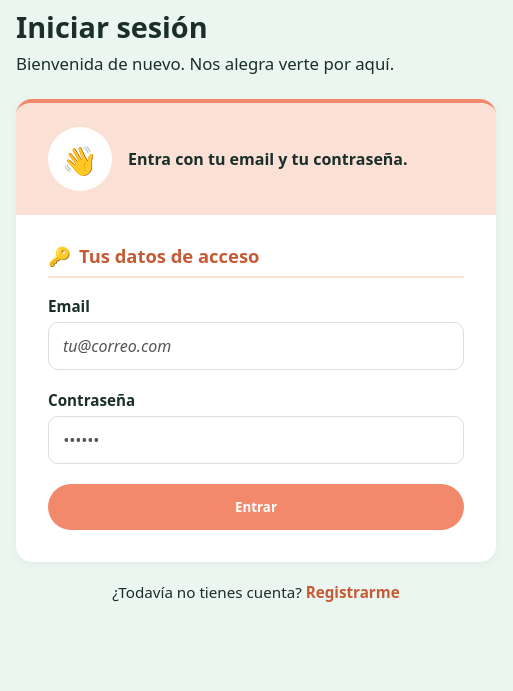
LoginView › si el login falla, muestra el error y no cambia de página
In the field with id "email": (256, 346) [48,322,464,370], type "ana@test.com"
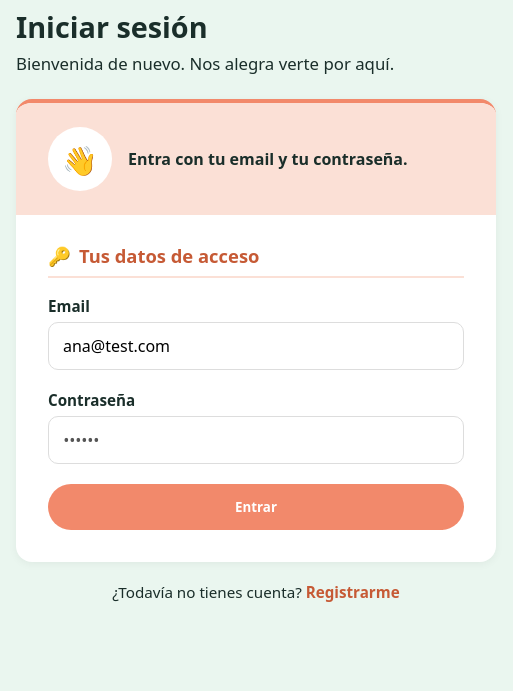
In the password field labelled "Contraseña": (256, 440) [48,416,464,464], type "mal"
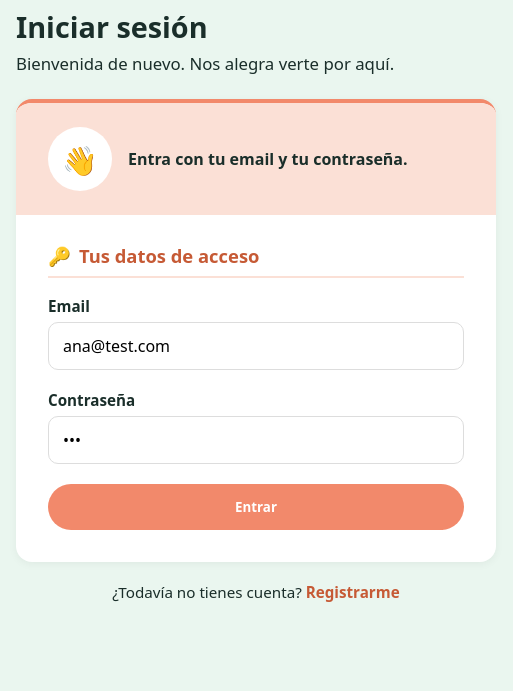
Submit the form, box [16,215,496,562]
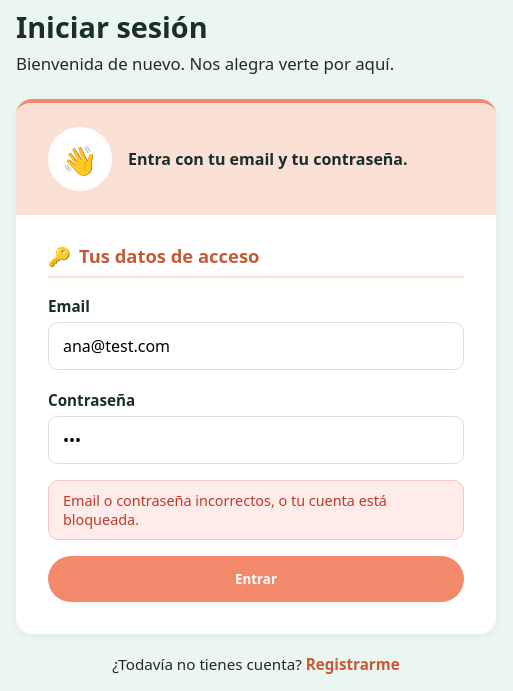
Result: the text "Email o contraseña incorrectos, o tu cuenta está bloqueada." is shown at [48,480,464,540]
